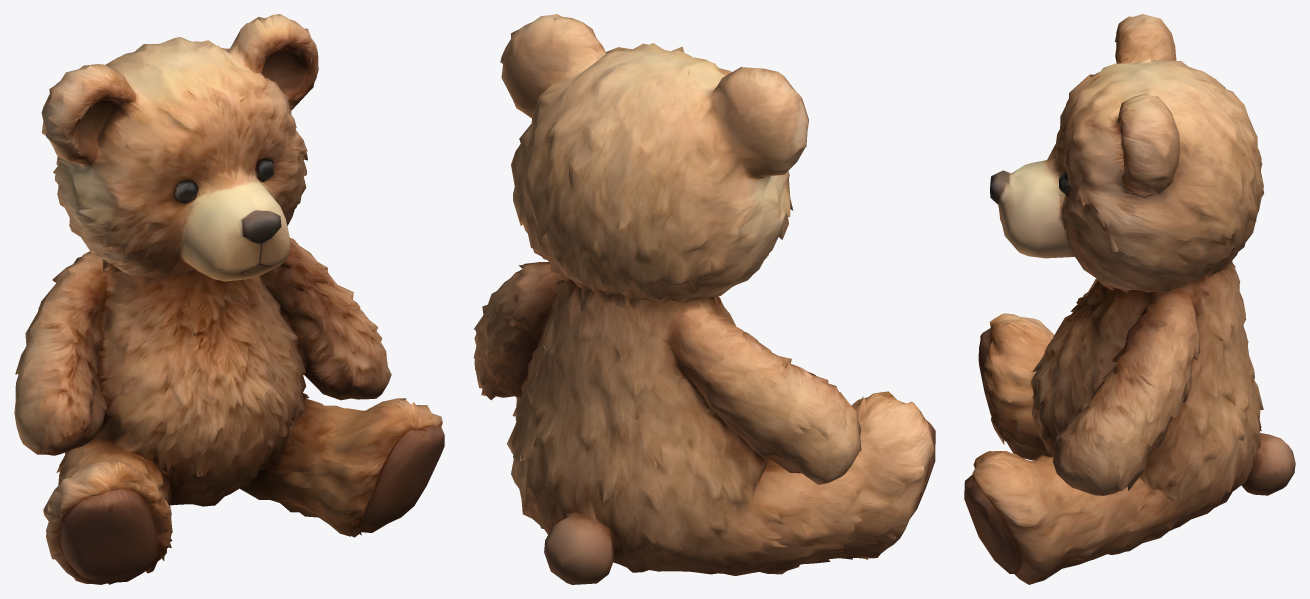
The model's file is teddy_bear.glb.
3 renders of one model, left to right at view 1: azimuth 30°, elevation 25°; view 2: azimuth 150°, elevation 25°; view 3: azimuth 270°, elevation 25°, orthographic. The views are drawn at different scales.
Visible parts, largest first — view 1: teddy_bear / mesh; view 2: teddy_bear / mesh; view 3: teddy_bear / mesh.
Boxes of the visible parts, x1=… form: teddy_bear / mesh: x1=14, y1=14, x2=444, y2=584; teddy_bear / mesh: x1=473, y1=14, x2=935, y2=584; teddy_bear / mesh: x1=964, y1=14, x2=1295, y2=584.
Bounding box in the file's own units: 0.2691 × 0.32 × 0.2097.
Materials: 1 (1 with a texture image).
